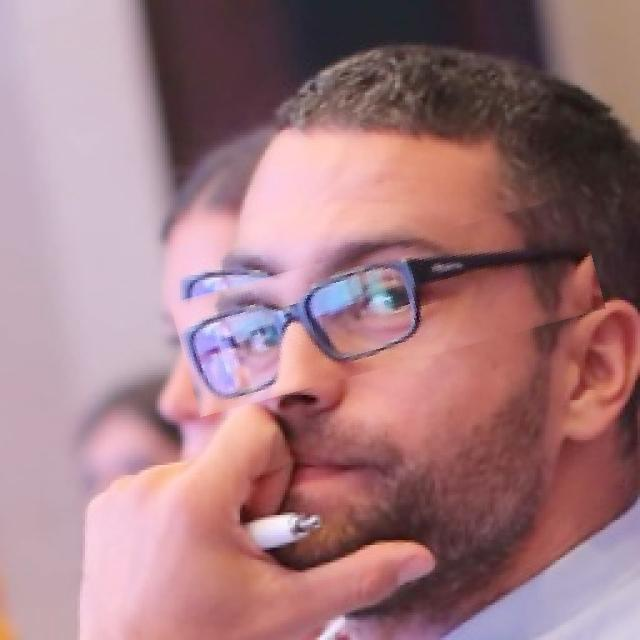glasses: (174, 221, 602, 391)
